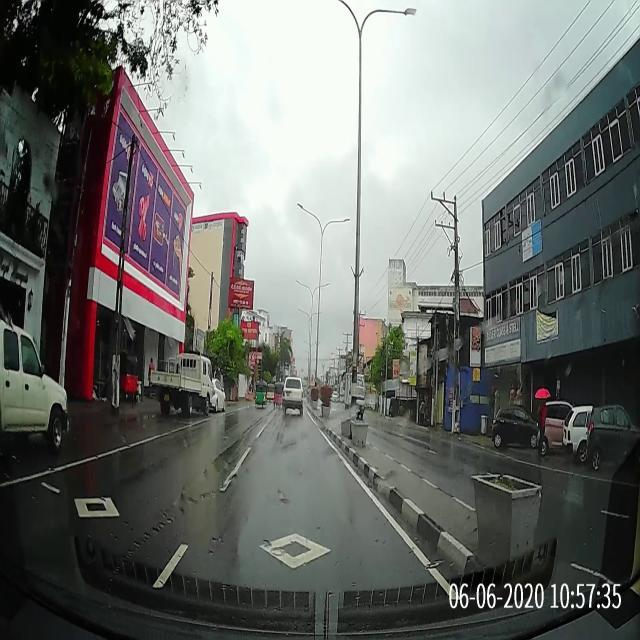diamond: (155, 493, 458, 574)
